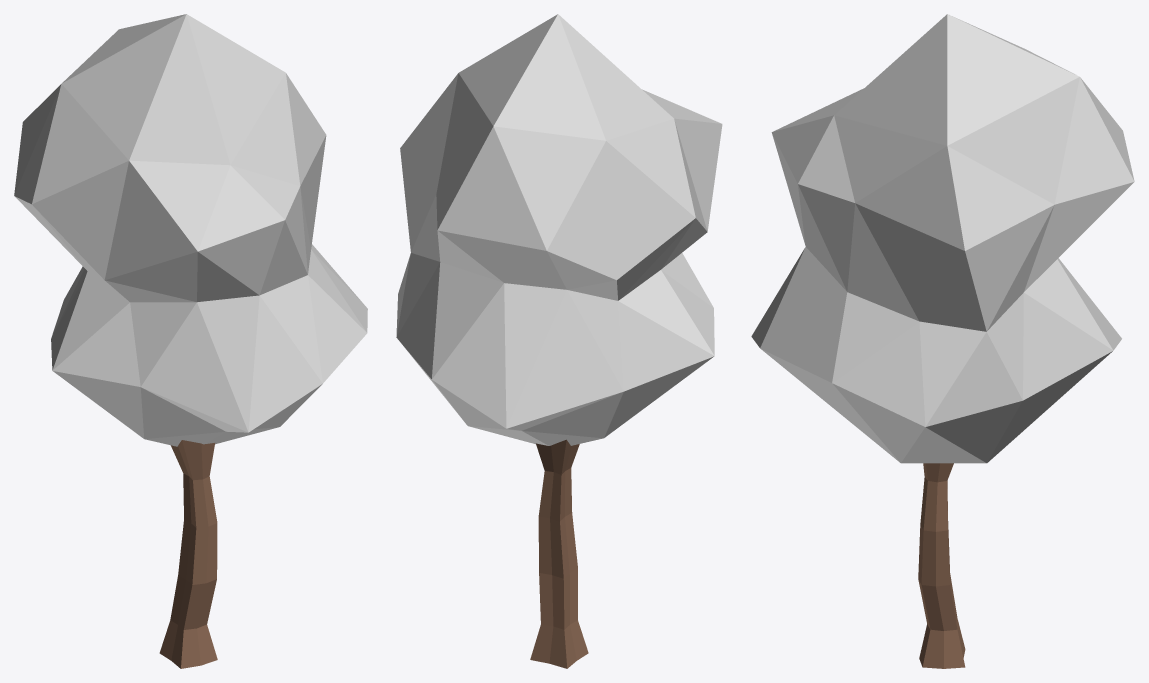
File: Tree_42_White.fbx
3 renders of one model, left to right at view 1: azimuth 30°, elevation 25°; view 2: azimuth 150°, elevation 25°; view 3: azimuth 270°, elevation 25°, orthographic.
Visible parts, largest first — view 1: Tree_42_White_Part_1, Tree_42_White_Part_2; view 2: Tree_42_White_Part_1, Tree_42_White_Part_2; view 3: Tree_42_White_Part_1, Tree_42_White_Part_2.
Part boxes in pixels (<box>): Tree_42_White_Part_1: <box>14,14,367,446</box>; Tree_42_White_Part_2: <box>159,440,217,668</box>; Tree_42_White_Part_1: <box>396,14,722,445</box>; Tree_42_White_Part_2: <box>530,439,588,668</box>; Tree_42_White_Part_1: <box>751,14,1134,463</box>; Tree_42_White_Part_2: <box>918,463,965,668</box>.
Size of the model in its own units: 411 by 797 by 430.
